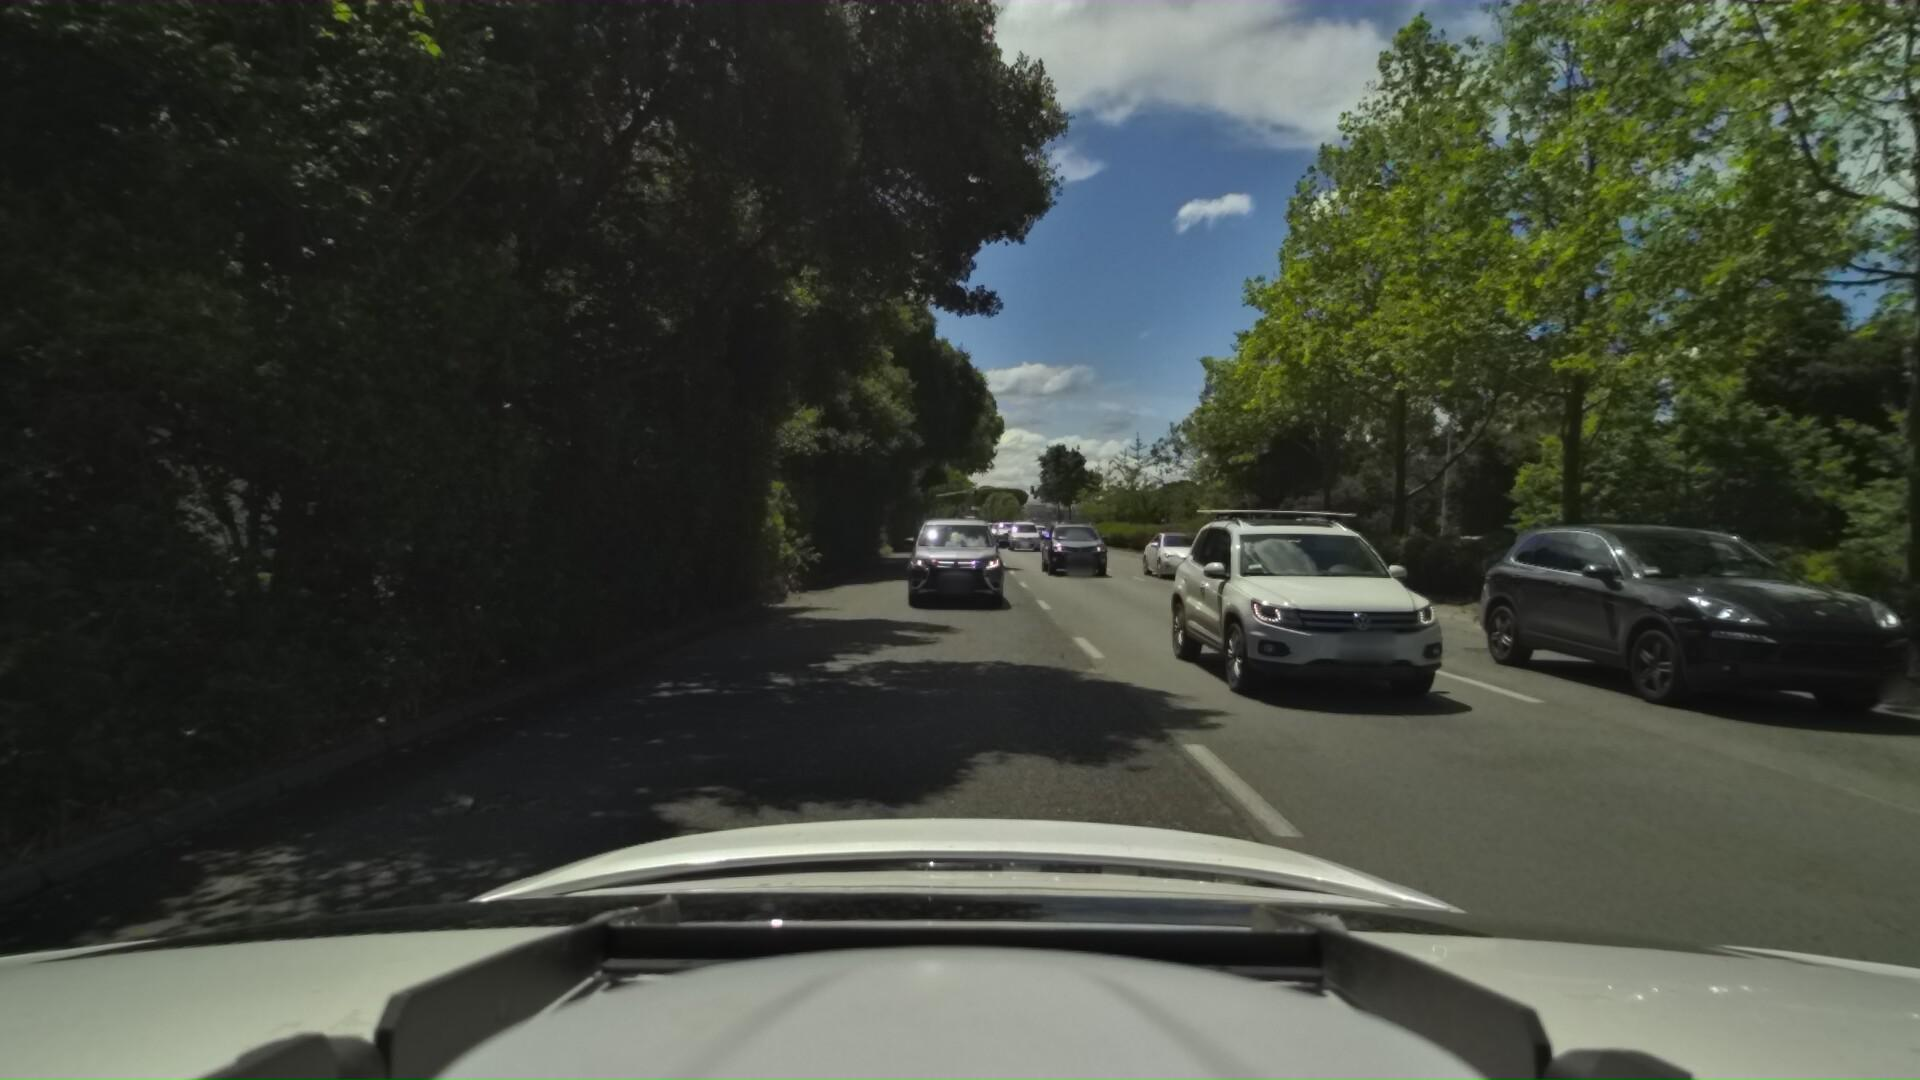car: (1410, 517, 1829, 713), (1135, 498, 1408, 696), (0, 518, 73, 869), (895, 512, 1007, 615), (1125, 525, 1215, 582), (1033, 516, 1102, 575), (948, 516, 996, 558), (1006, 518, 1040, 551), (992, 518, 1018, 543)
